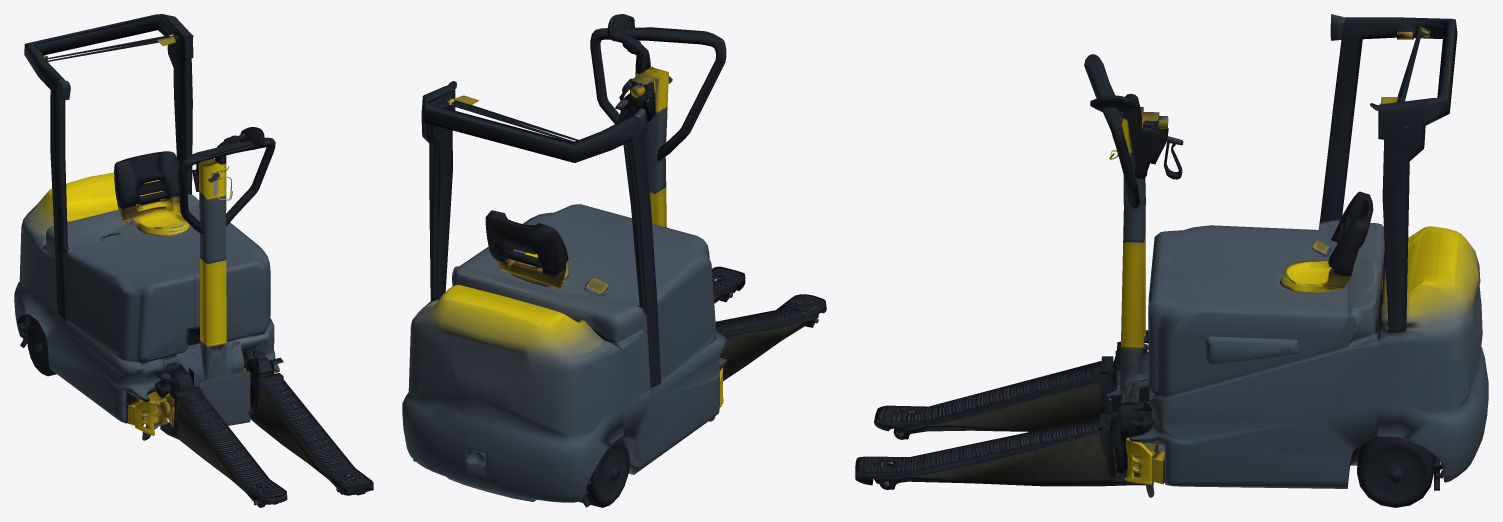
Rendered from machine.glb.
3 views of the same model, side by side, from view 1: azimuth 30°, elevation 25°; view 2: azimuth 150°, elevation 25°; view 3: azimuth 270°, elevation 25° (orthographic). The views are drawn at different scales.
Visible parts, largest first — view 1: tripo_4c20d1c6_4b96_4a16_91fe_ac7a98c7a711; view 2: tripo_4c20d1c6_4b96_4a16_91fe_ac7a98c7a711; view 3: tripo_4c20d1c6_4b96_4a16_91fe_ac7a98c7a711.
Part boxes in pixels (x1,y1,x2,y2): tripo_4c20d1c6_4b96_4a16_91fe_ac7a98c7a711: (14, 14, 373, 507); tripo_4c20d1c6_4b96_4a16_91fe_ac7a98c7a711: (402, 14, 826, 507); tripo_4c20d1c6_4b96_4a16_91fe_ac7a98c7a711: (855, 14, 1488, 507).
Bounding box in the file's own units: 0.3823 × 0.7056 × 0.9995.
Materials: 1 (1 with a texture image).
